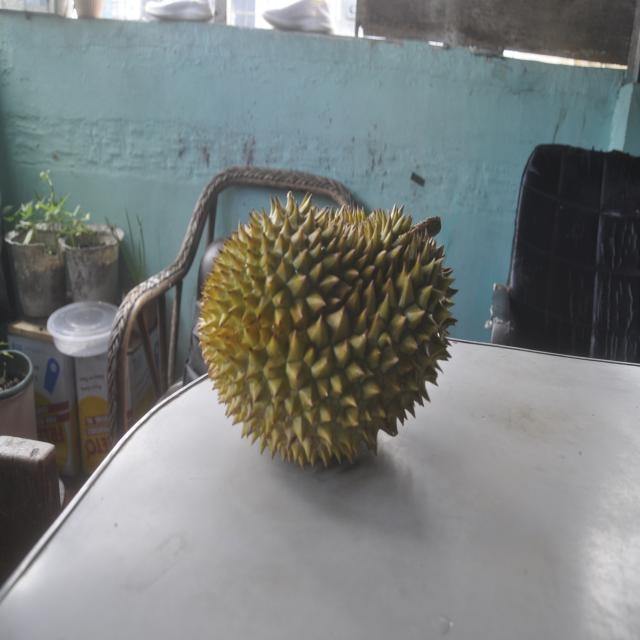mature: (202, 188, 444, 471)
